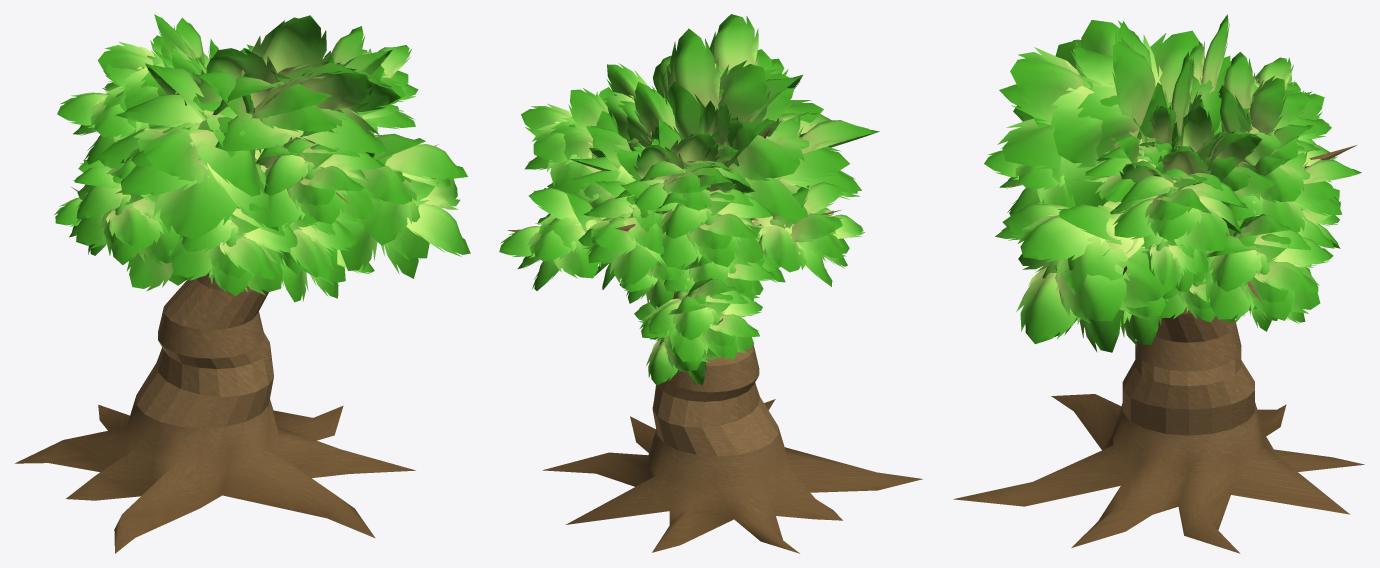
File: wood_20240909.fbx
3 views of the same model, side by side, from view 1: azimuth 30°, elevation 25°; view 2: azimuth 150°, elevation 25°; view 3: azimuth 270°, elevation 25° (orthographic). The views are drawn at different scales.
Parts seen in each view (by area): view 1: pPlane34, wood; view 2: pPlane34, wood; view 3: pPlane34, wood.
Boxes of the visible parts, left/top/right/bottom form: pPlane34: left=54, top=14, right=470, bottom=302; wood: left=15, top=100, right=438, bottom=553; pPlane34: left=499, top=14, right=879, bottom=385; wood: left=507, top=130, right=922, bottom=553; pPlane34: left=984, top=14, right=1361, bottom=352; wood: left=953, top=145, right=1364, bottom=553.
Size of the model in its own units: 20.02 by 23.87 by 19.4.
2 materials, 2 textured.
